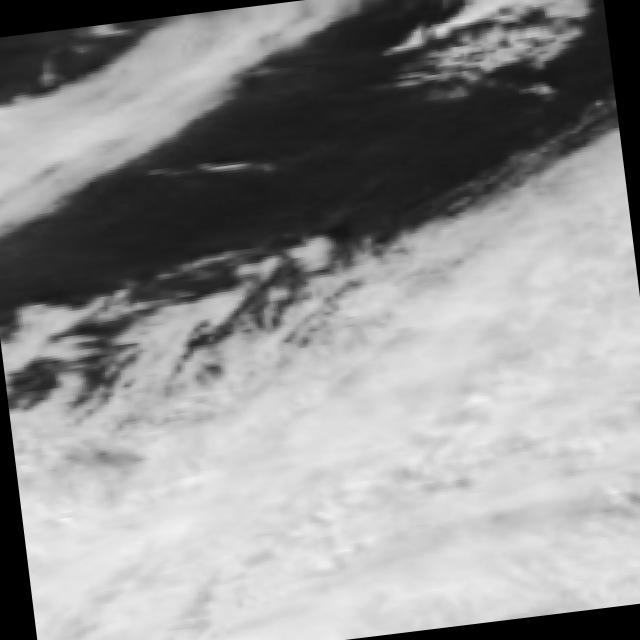CB: (419, 402, 640, 627), (218, 427, 436, 640), (17, 455, 247, 640), (441, 242, 640, 441), (292, 318, 520, 470)
